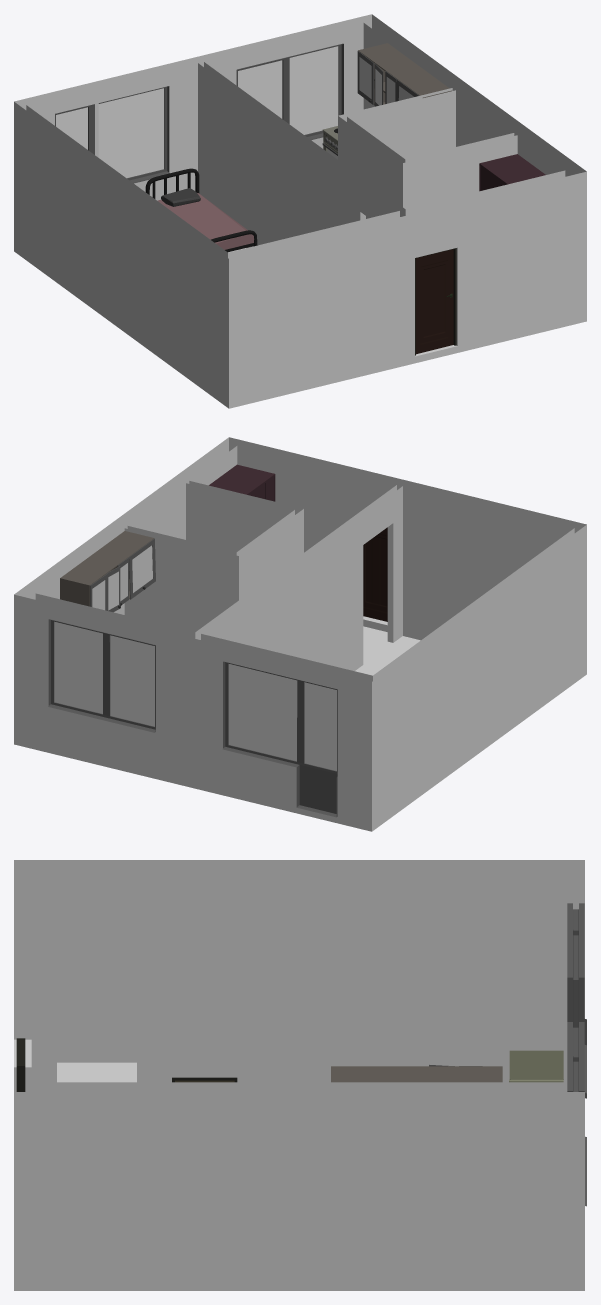
Rendered from dom_2019.fbx.
3 renders of one model, top to bottom at view 1: azimuth 30°, elevation 25°; view 2: azimuth 150°, elevation 25°; view 3: azimuth 270°, elevation 25°, orthographic. The views are drawn at different scales.
Parts seen in each view (by area): view 1: Cube, Plane, Plane.007, DoorBoddy.002, Cube.025, pilow.002, Plane.001, Cube.002, pilow, Plane.005, Cube.032, OutBoddy.001 (+1 smaller); view 2: Cube, Plane, Plane.007, Plane.001, Plane.005, Cube.025, DoorBoddy.002, Cube.002, Cube.030, Cube.033, Cube.032; view 3: Cube, Cube.025, Plane.001, Cube.008, Plane.
Boxes of the visible parts, box(x1,y1,x2,y2) form: Cube: box(14, 14, 586, 408); Plane: box(236, 43, 343, 140); Plane.007: box(98, 88, 163, 178); DoorBoddy.002: box(416, 249, 453, 354); Cube.025: box(358, 43, 451, 104); pilow.002: box(157, 193, 254, 249); Plane.001: box(55, 86, 169, 183); Cube.002: box(479, 154, 545, 191); pilow: box(145, 168, 257, 252); Plane.005: box(56, 107, 87, 149); Cube.032: box(357, 51, 373, 105); OutBoddy.001: box(415, 248, 456, 355); Cube: box(14, 437, 586, 831); Plane: box(48, 619, 155, 732); Plane.007: box(228, 664, 297, 761); Plane.001: box(222, 661, 337, 817); Plane.005: box(304, 682, 336, 770); Cube.025: box(60, 531, 154, 606); DoorBoddy.002: box(363, 527, 387, 621); Cube.002: box(209, 464, 275, 501); Cube.030: box(129, 538, 155, 599); Cube.033: box(107, 566, 120, 612); Cube.032: box(90, 574, 107, 610); Cube: box(14, 860, 584, 1290); Cube.025: box(331, 1066, 502, 1082); Plane.001: box(567, 903, 586, 1098); Cube.008: box(509, 1050, 563, 1079); Plane: box(567, 1022, 586, 1206).
Size of the model in its own units: 625 by 251 by 652.
